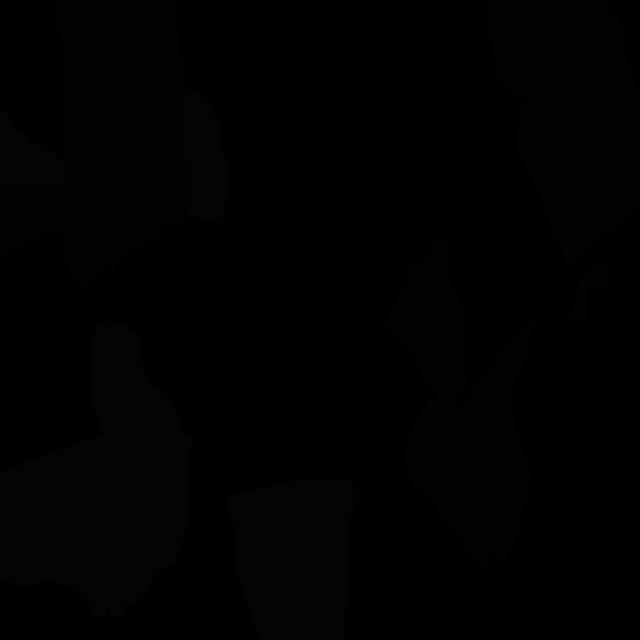cardboard: (0, 0, 186, 291), (383, 233, 535, 573), (489, 0, 640, 267), (570, 261, 615, 323)
rigid_plastic: (326, 135, 422, 218)
soft_plastic: (0, 321, 192, 620), (228, 479, 361, 640), (184, 88, 228, 224), (0, 106, 66, 189)
